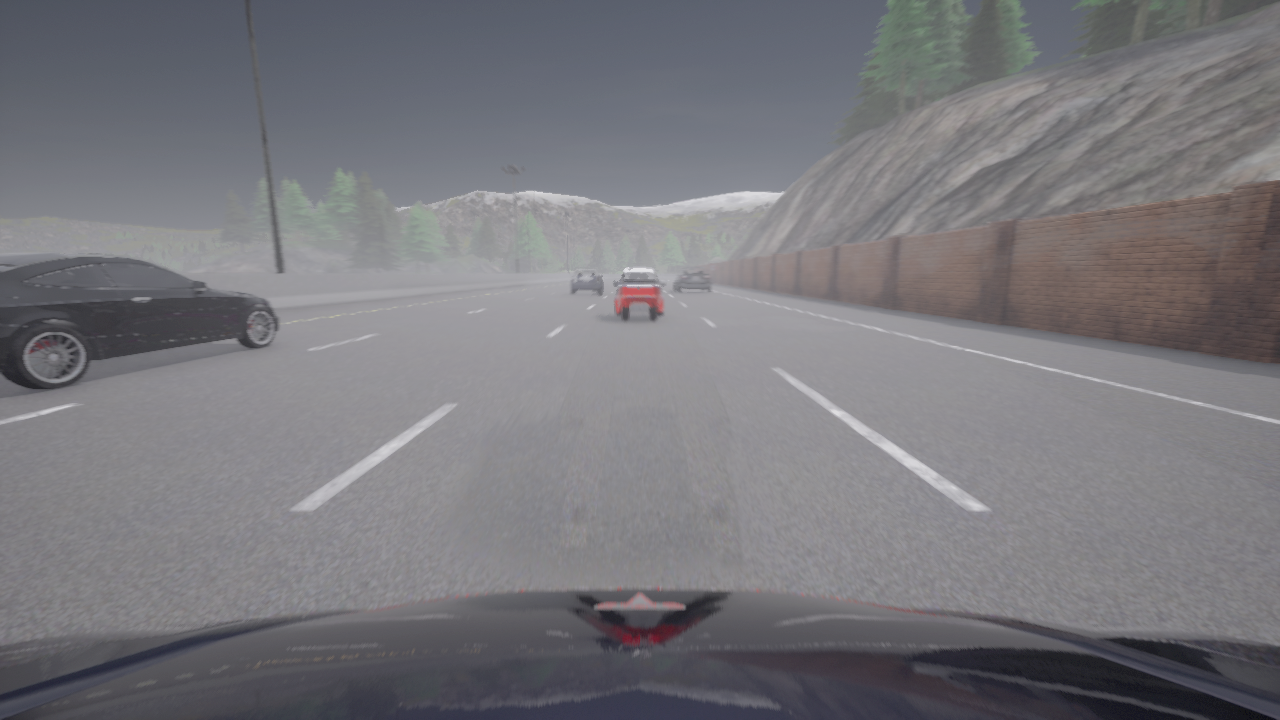cyclist: (0, 588, 1279, 719), (0, 252, 280, 389), (613, 267, 664, 320), (674, 266, 711, 292), (570, 269, 602, 294)
